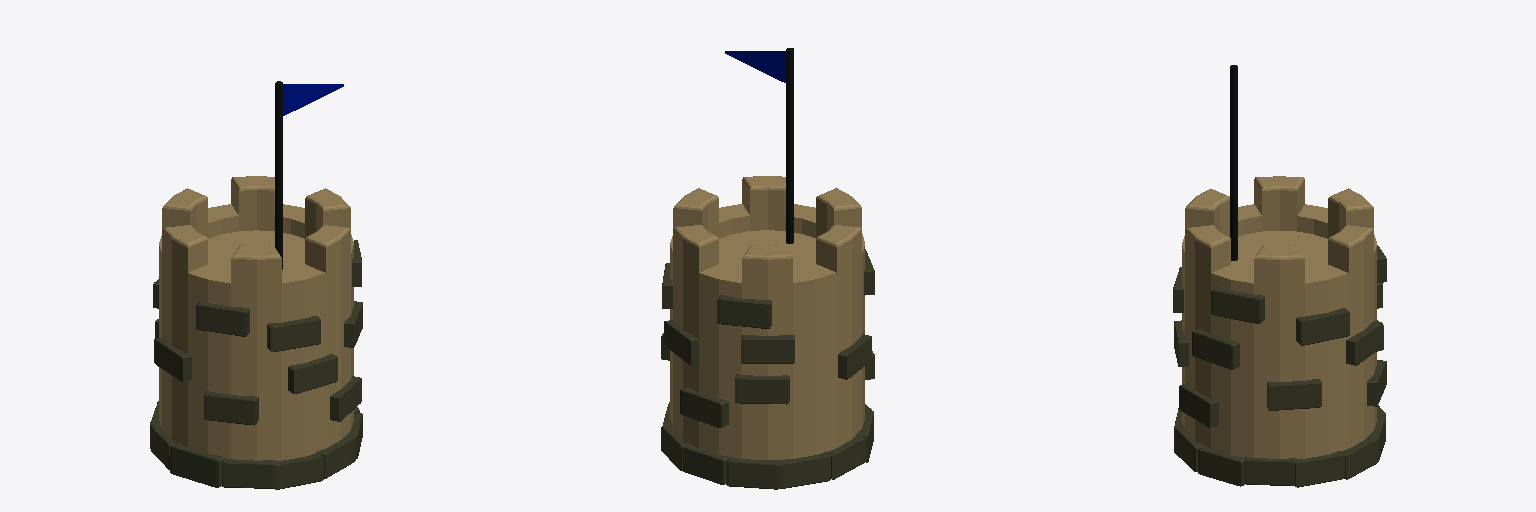
Rendered from ArcherTower_Level2_BlueTeam.obj.
3 renders of one model, left to right at view 1: azimuth 30°, elevation 25°; view 2: azimuth 150°, elevation 25°; view 3: azimuth 270°, elevation 25°, orthographic.
Visible parts, largest first — view 1: ArcherTower_Level2_BlueTeam_Cylinder.004, BlueFlag_Cube.042; view 2: ArcherTower_Level2_BlueTeam_Cylinder.004, BlueFlag_Cube.042; view 3: ArcherTower_Level2_BlueTeam_Cylinder.004.
Boxes of the visible parts, x1=… form: ArcherTower_Level2_BlueTeam_Cylinder.004: x1=150, y1=81, x2=362, y2=489; BlueFlag_Cube.042: x1=283, y1=84, x2=343, y2=115; ArcherTower_Level2_BlueTeam_Cylinder.004: x1=661, y1=48, x2=874, y2=489; BlueFlag_Cube.042: x1=725, y1=51, x2=785, y2=82; ArcherTower_Level2_BlueTeam_Cylinder.004: x1=1173, y1=65, x2=1386, y2=487.
Bounding box in the file's own units: 13.16 × 25.76 × 13.12.